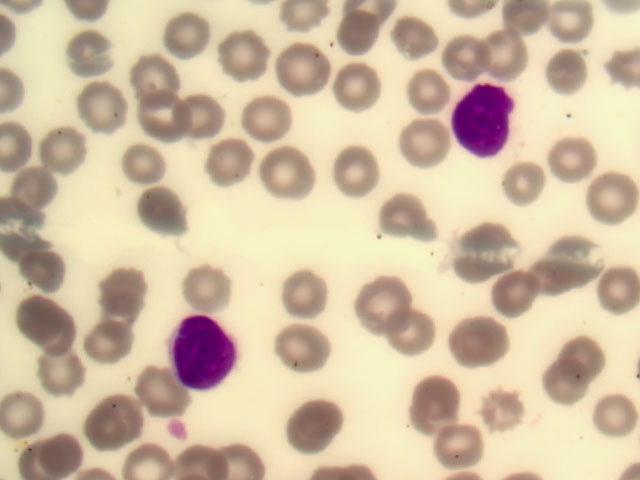Platelets: (167, 419, 191, 441)
RBC: (62, 24, 120, 78), (70, 81, 128, 135), (44, 119, 102, 173), (13, 167, 71, 221), (6, 242, 64, 296), (14, 289, 72, 343), (28, 336, 86, 390), (5, 388, 63, 442), (29, 426, 87, 480), (86, 398, 144, 452), (126, 357, 184, 411), (72, 309, 130, 363), (102, 260, 160, 314), (133, 177, 191, 231), (119, 131, 177, 185), (143, 92, 201, 146), (134, 47, 192, 101), (183, 85, 241, 139), (160, 8, 218, 62), (214, 27, 272, 81), (272, 39, 330, 93), (246, 90, 304, 144), (207, 146, 265, 200), (270, 145, 328, 199), (323, 147, 381, 201), (329, 63, 387, 117), (333, 9, 391, 63), (397, 9, 455, 63), (404, 53, 462, 107), (394, 116, 452, 170), (436, 33, 494, 87), (474, 14, 532, 68), (536, 47, 594, 101), (539, 129, 597, 183), (582, 161, 640, 215), (501, 156, 559, 210), (460, 225, 518, 279), (381, 193, 439, 247), (358, 276, 416, 330), (382, 309, 440, 363), (274, 270, 332, 324), (281, 324, 339, 378), (168, 263, 226, 317), (283, 393, 341, 447), (395, 373, 453, 427), (458, 322, 516, 376), (499, 272, 557, 326), (551, 237, 609, 291), (582, 270, 640, 324), (558, 341, 616, 395), (526, 375, 584, 429), (582, 380, 640, 434), (480, 389, 538, 443), (426, 426, 484, 480), (207, 426, 265, 480), (109, 426, 167, 480), (546, 1, 604, 54)
WBC: (165, 310, 244, 395), (450, 79, 528, 164)
